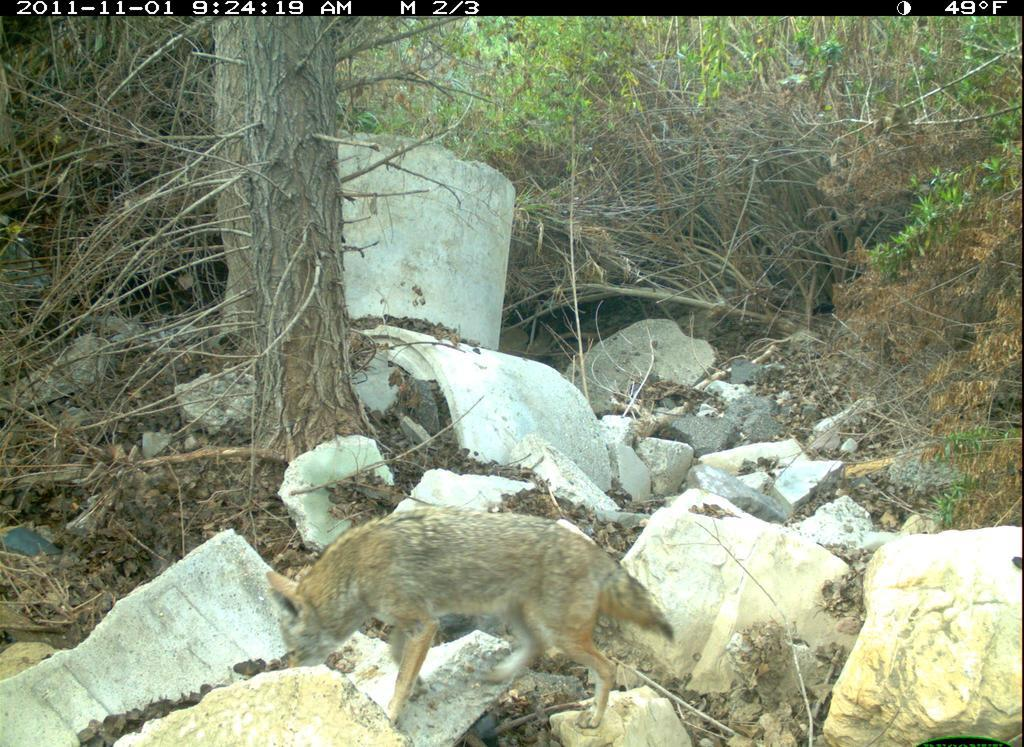coyote: (253, 495, 676, 726)
